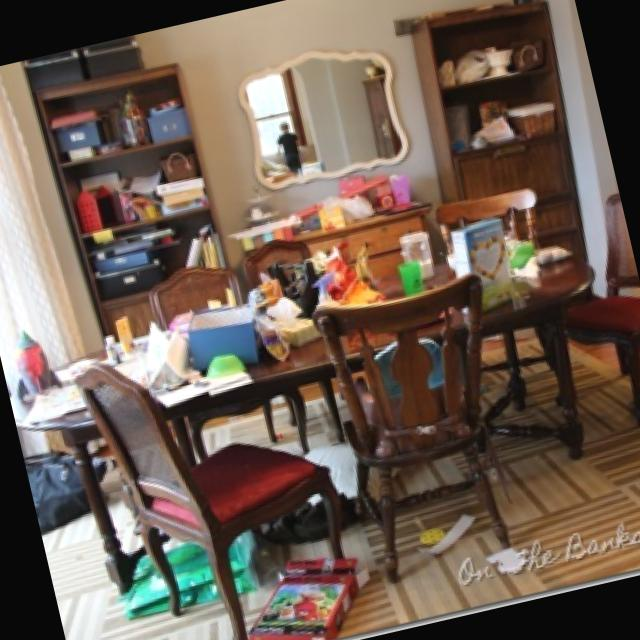mess: (26, 324, 640, 640), (0, 192, 616, 452), (35, 62, 252, 347), (405, 0, 608, 241)
